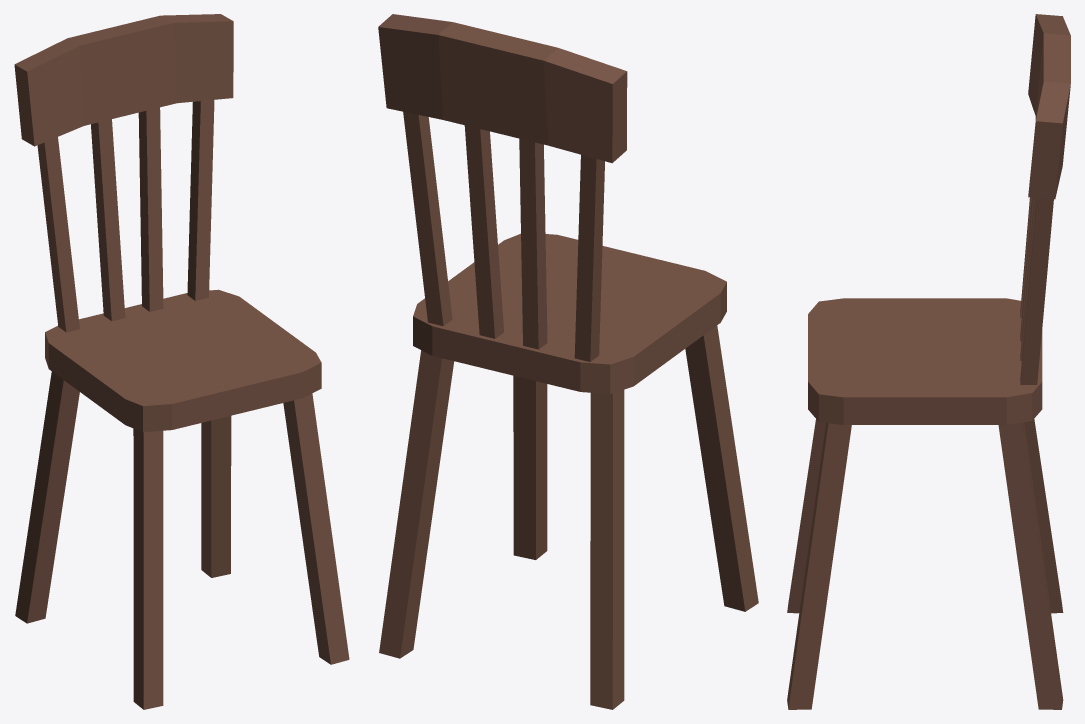
File: chair copy.glb
The picture shows the model from 3 angles, left to right: view 1: azimuth 30°, elevation 25°; view 2: azimuth 150°, elevation 25°; view 3: azimuth 270°, elevation 25°; orthographic projection. The views are drawn at different scales.
Parts seen in each view (by area): view 1: Wooden_chair_01_Cube.035; view 2: Wooden_chair_01_Cube.035; view 3: Wooden_chair_01_Cube.035.
Boxes of the visible parts, x1,y1,x2,y2 form: Wooden_chair_01_Cube.035: (14,14,349,709); Wooden_chair_01_Cube.035: (378,14,758,709); Wooden_chair_01_Cube.035: (787,14,1070,709).
Size of the model in its own units: 8.4 by 21.88 by 9.39.
